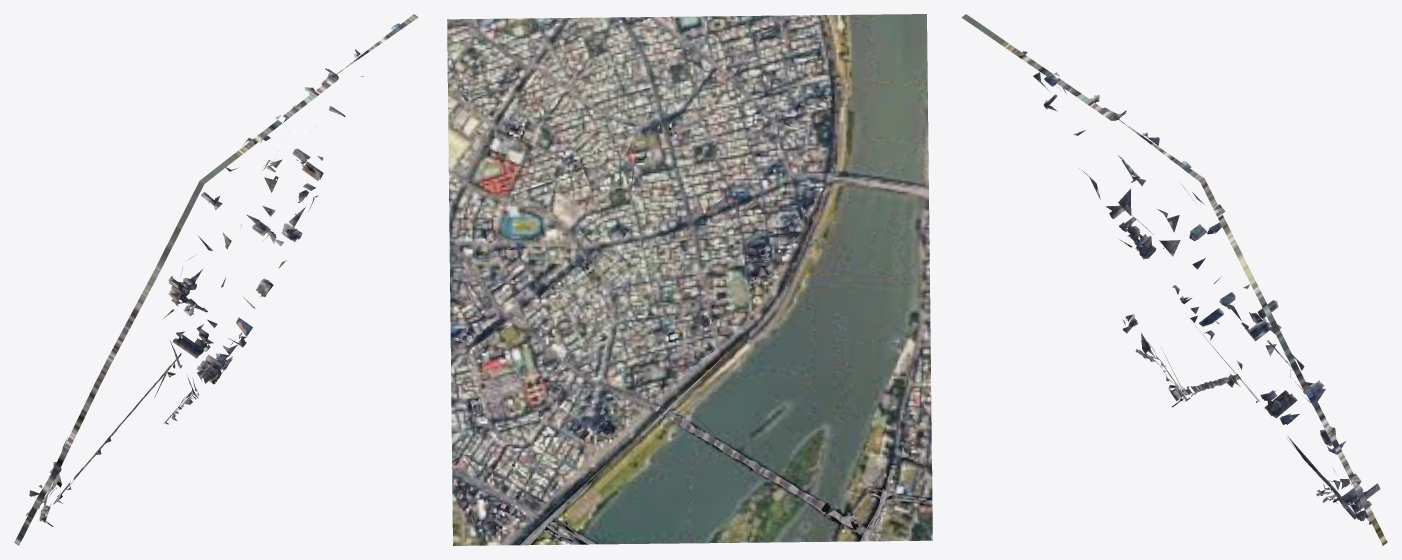
The picture shows the model from 3 angles, left to right: view 1: azimuth 30°, elevation 25°; view 2: azimuth 150°, elevation 25°; view 3: azimuth 270°, elevation 25°; orthographic projection. The views are drawn at different scales.
Bounding box in the file's own units: 2450 × 2252 × 2070.
Materials: 1 (1 with a texture image).
